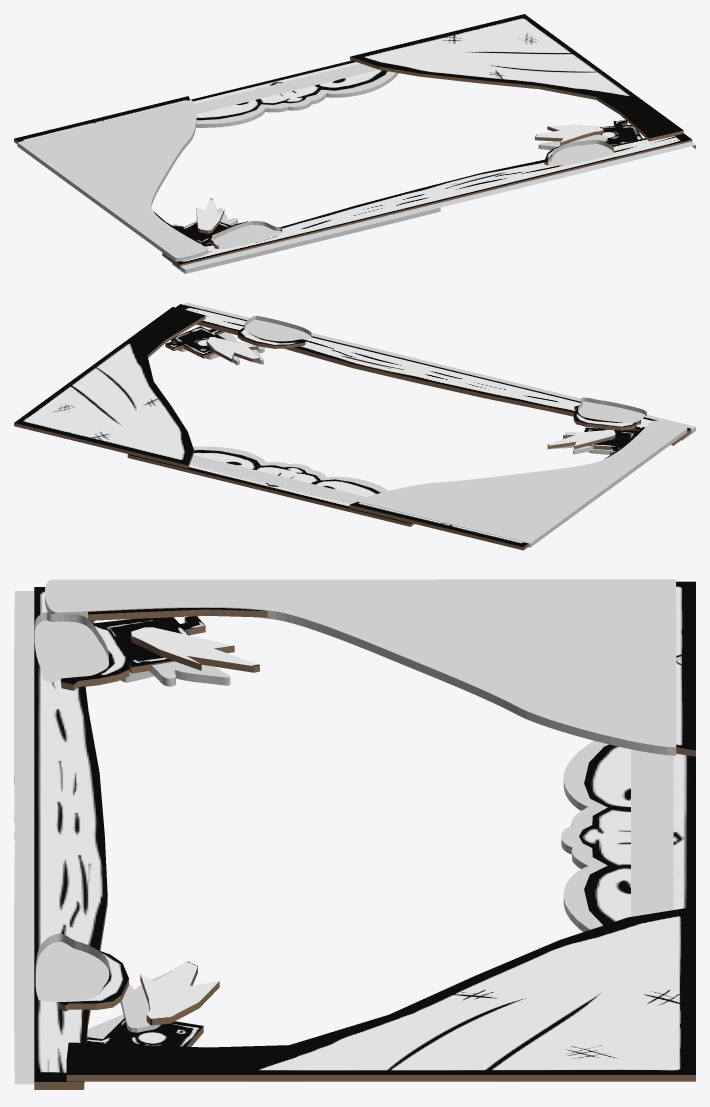
Rendered from testcadre1.glb.
3 renders of one model, top to bottom at view 1: azimuth 30°, elevation 25°; view 2: azimuth 150°, elevation 25°; view 3: azimuth 270°, elevation 25°, orthographic. The views are drawn at different scales.
Visible parts, largest first — view 1: Plane.001, rideaux, bas, haut, caillougauche, cailloudroit; view 2: Plane.001, rideaux, haut, bas, caillougauche, cailloudroit; view 3: Plane.001, rideaux, haut, bas, caillougauche, cailloudroit, flashgauche, flashdroite.
Part boxes in pixels (left/top/right/bottom): Plane.001: left=14, top=14, right=692, bottom=268; rideaux: left=17, top=100, right=208, bottom=261; bas: left=172, top=141, right=695, bottom=273; haut: left=194, top=63, right=398, bottom=127; caillougauche: left=213, top=221, right=282, bottom=248; cailloudroit: left=548, top=140, right=614, bottom=165; Plane.001: left=14, top=304, right=691, bottom=550; rideaux: left=356, top=420, right=687, bottom=547; haut: left=190, top=446, right=388, bottom=503; bas: left=183, top=302, right=695, bottom=440; caillougauche: left=578, top=397, right=646, bottom=422; cailloudroit: left=244, top=315, right=311, bottom=341; Plane.001: left=34, top=581, right=695, bottom=1089; rideaux: left=45, top=579, right=676, bottom=755; haut: left=561, top=740, right=676, bottom=931; bas: left=14, top=591, right=34, bottom=1084; caillougauche: left=34, top=612, right=108, bottom=682; cailloudroit: left=35, top=933, right=109, bottom=1001; flashgauche: left=149, top=661, right=230, bottom=686; flashdroite: left=120, top=972, right=168, bottom=1032.
Bounding box in the file's own units: 5.02 × 0.1732 × 2.92.
Materials: 2 (1 with a texture image).
